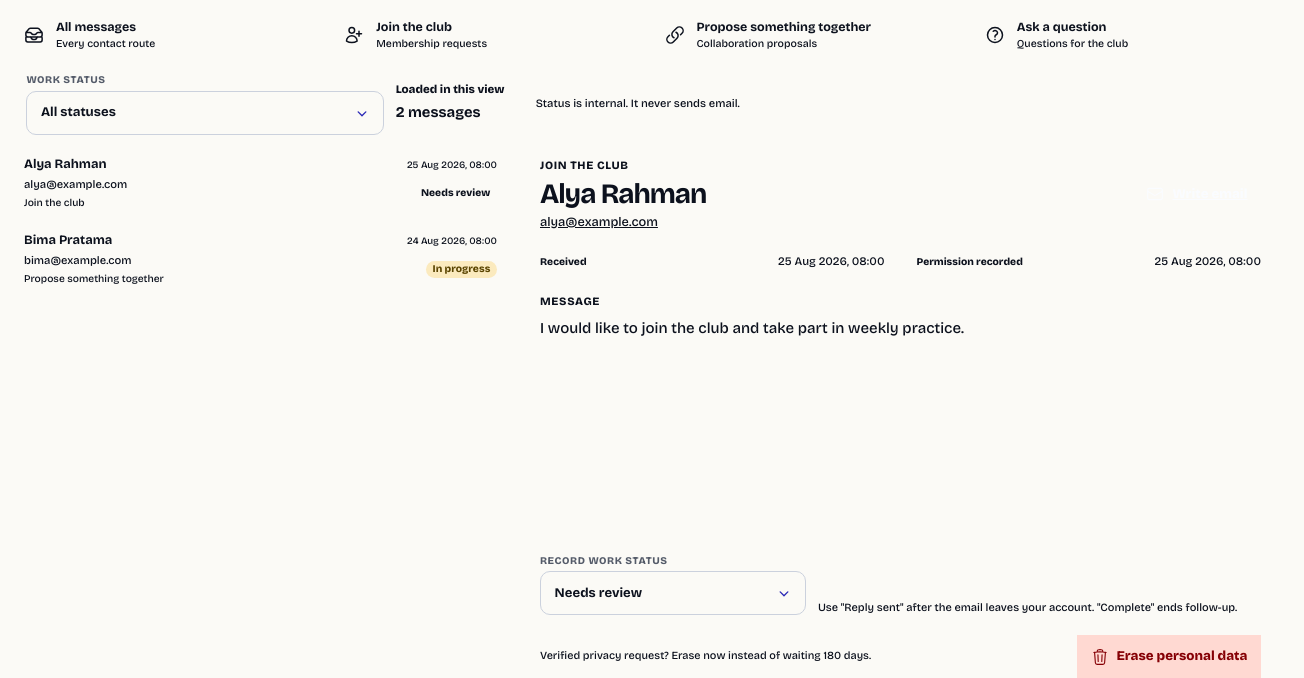
ContactManager › records status separately from the email handoff
The width and height of the screenshot is (1304, 678).
(page scrolled)
Click the dropdown named "Record work status" at (598, 593), box [540,571,806,615]
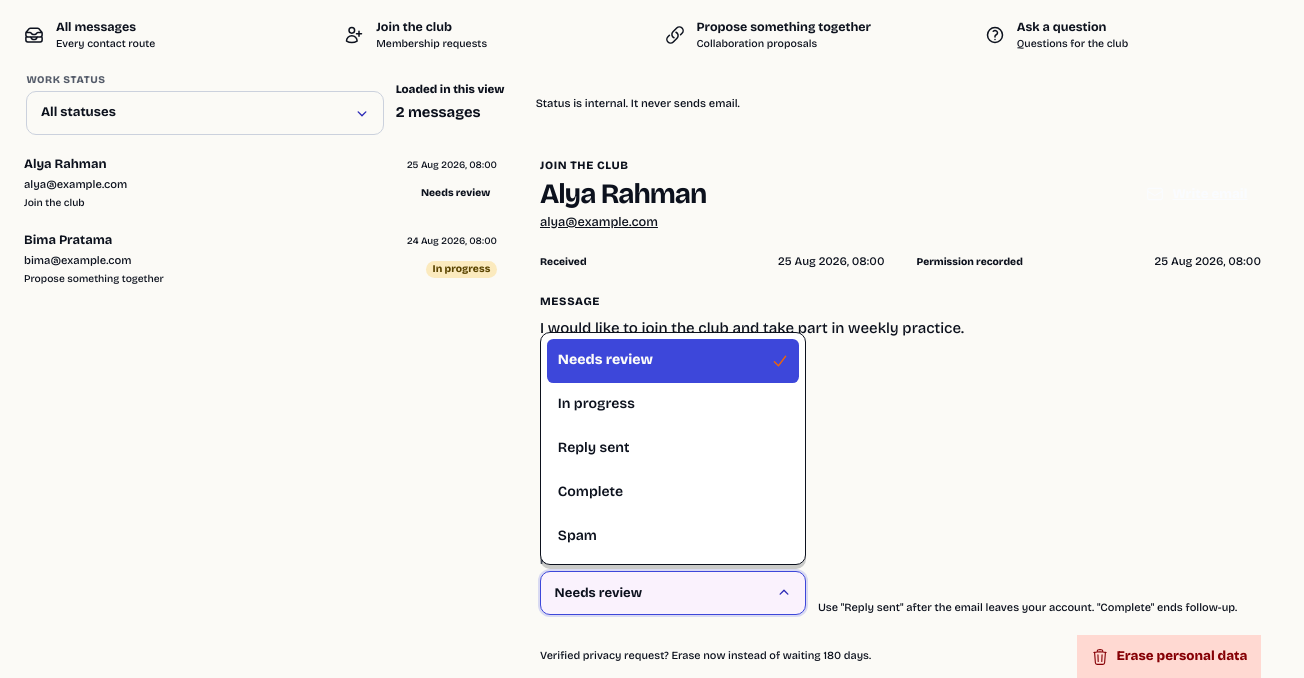
Click the option "In progress" at (596, 404), box [558,395,635,412]
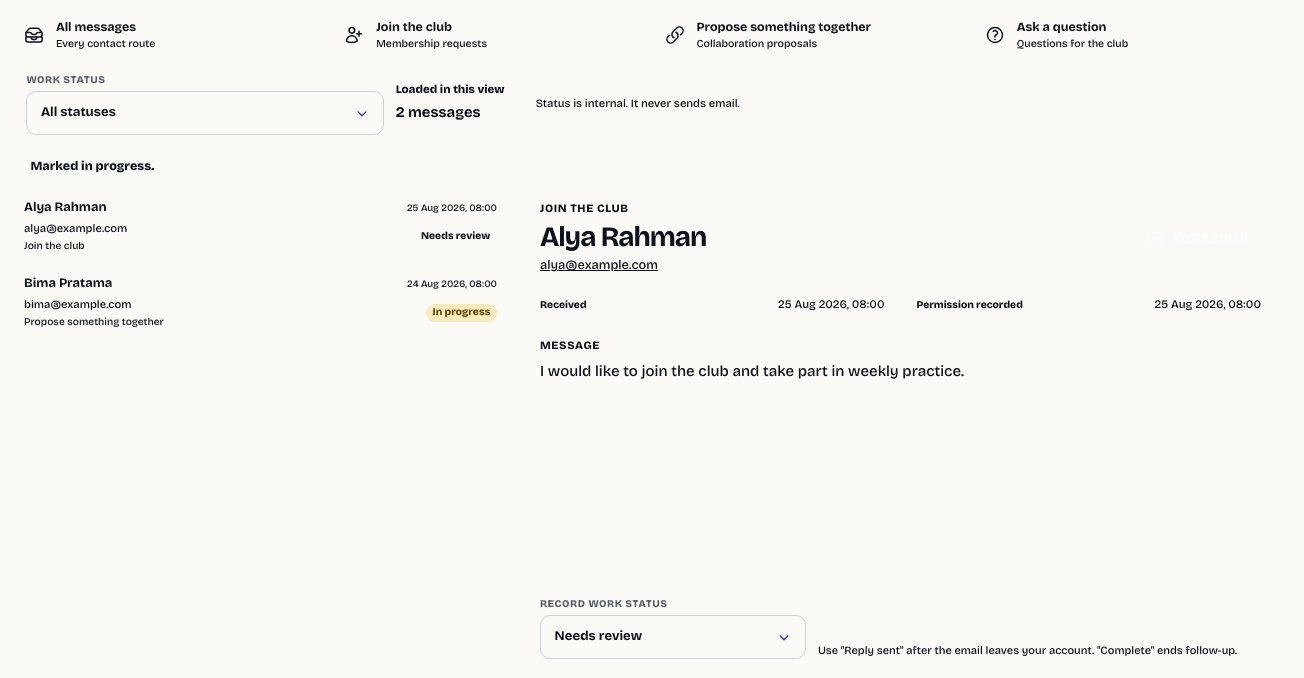
Expected: the message reads "Marked in progress.", [30,158,154,173]
